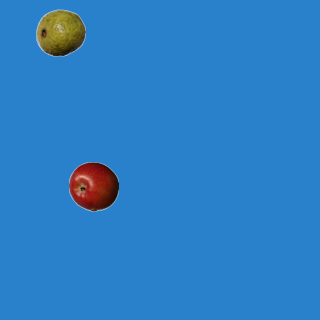Apple Braeburn: (68, 161, 118, 211)
Guava: (35, 7, 85, 57)
